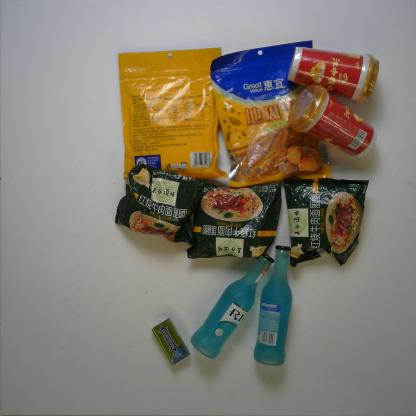Alcohol: (190, 252, 274, 359), (253, 244, 293, 366)
Dried Fruit: (210, 40, 332, 188), (118, 47, 228, 185)
Gum: (152, 318, 190, 366)
Instant Drink: (288, 84, 378, 158), (287, 46, 379, 104)
Instant Noodles: (283, 177, 369, 267), (115, 162, 206, 246), (186, 183, 282, 259)
